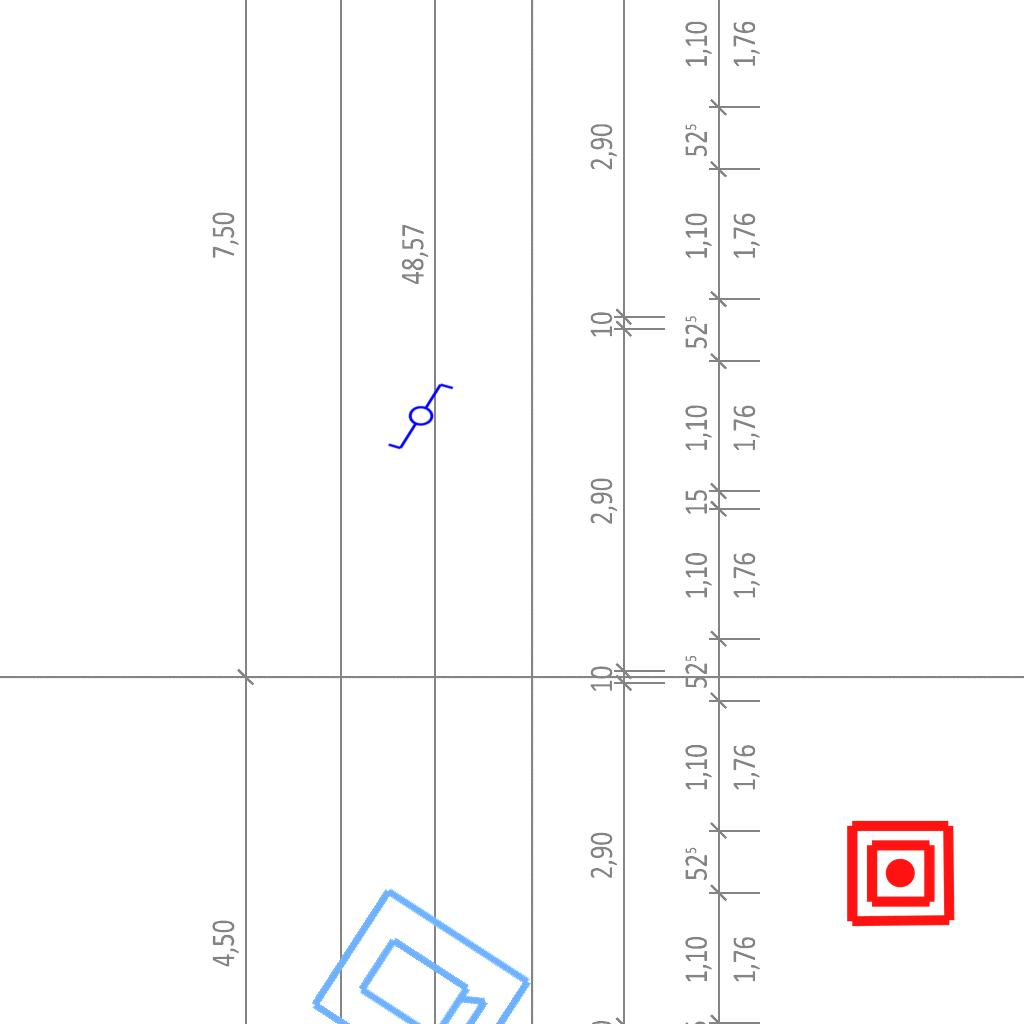KFO_Kamera_mit_Festobjektiv: (301, 879, 539, 1024)
NAM-Nichtautomatischer_Melder: (844, 817, 957, 930)
Wechselschalter: (386, 381, 464, 453)
